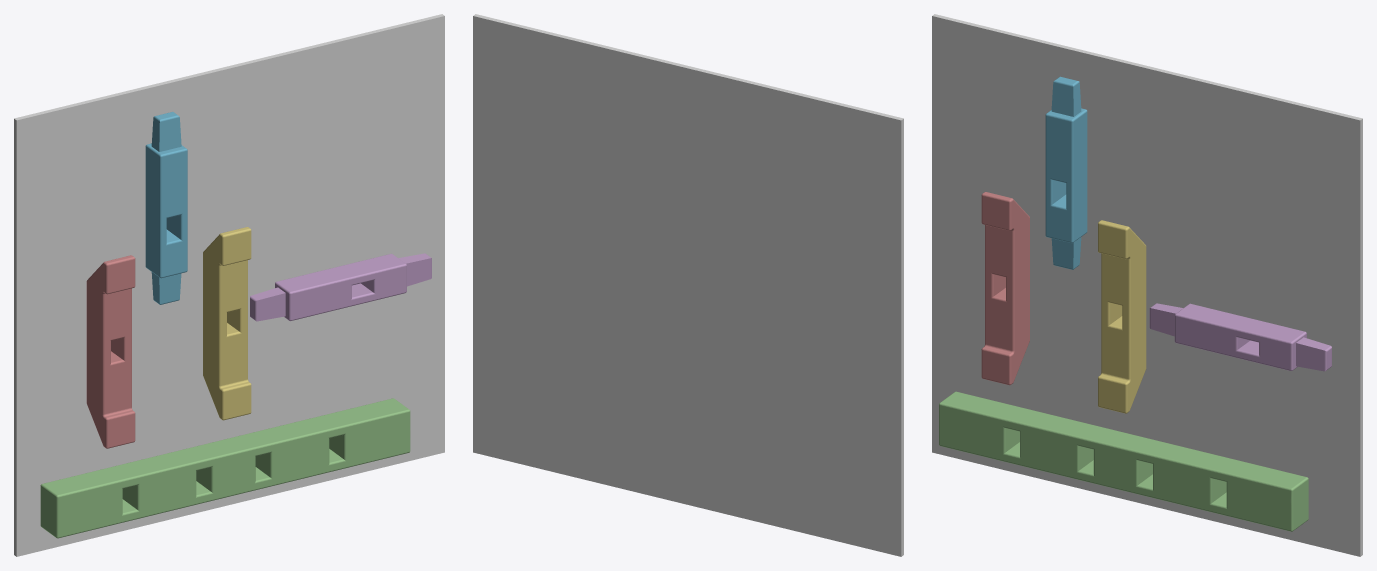
File: pickup_layout.glb
3 renders of one model, left to right at view 1: azimuth 30°, elevation 25°; view 2: azimuth 150°, elevation 25°; view 3: azimuth 330°, elevation 25°, orthographic.
Parts seen in each view (by area): view 1: world, 6.obj, 0.obj, 1.obj, 2.obj, 3.obj; view 2: world; view 3: world, 6.obj, 1.obj, 0.obj, 2.obj, 3.obj.
Part boxes in pixels (bbox=[...]): world: bbox=[14, 14, 444, 556]; 6.obj: bbox=[40, 398, 410, 538]; 0.obj: bbox=[86, 255, 135, 448]; 1.obj: bbox=[203, 227, 251, 420]; 2.obj: bbox=[145, 112, 187, 304]; 3.obj: bbox=[250, 253, 431, 321]; world: bbox=[473, 14, 903, 556]; world: bbox=[932, 14, 1362, 556]; 6.obj: bbox=[939, 391, 1308, 531]; 1.obj: bbox=[1098, 220, 1146, 413]; 0.obj: bbox=[981, 192, 1029, 385]; 2.obj: bbox=[1045, 76, 1087, 269]; 3.obj: bbox=[1149, 303, 1331, 371].
Bounding box in the file's own units: 18.43 × 17.95 × 1.72.
